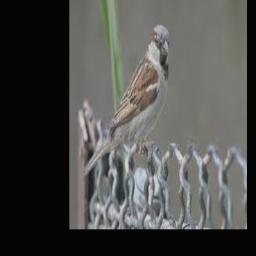Sparrow: (83, 23, 171, 180)
